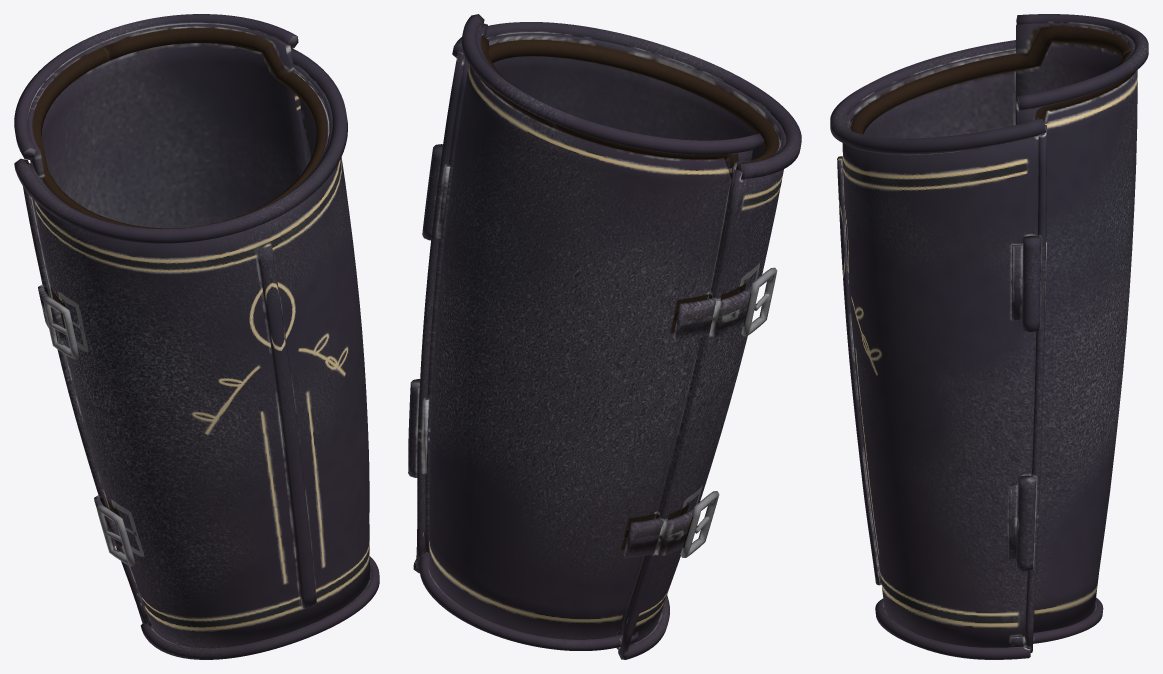
Rendered from SM_ObsidianSovereign_Forearms_L.fbx.
3 renders of one model, left to right at view 1: azimuth 30°, elevation 25°; view 2: azimuth 150°, elevation 25°; view 3: azimuth 270°, elevation 25°, orthographic. The views are drawn at different scales.
Visible parts, largest first — view 1: SM_ObsidianSovereign_Forearms_L; view 2: SM_ObsidianSovereign_Forearms_L; view 3: SM_ObsidianSovereign_Forearms_L.
Part boxes in pixels (x1,y1,x2,y2): SM_ObsidianSovereign_Forearms_L: (14,14,379,659); SM_ObsidianSovereign_Forearms_L: (408,14,801,659); SM_ObsidianSovereign_Forearms_L: (830,14,1148,659).
Bounding box in the file's own units: 13.1 × 10.76 × 21.44.
